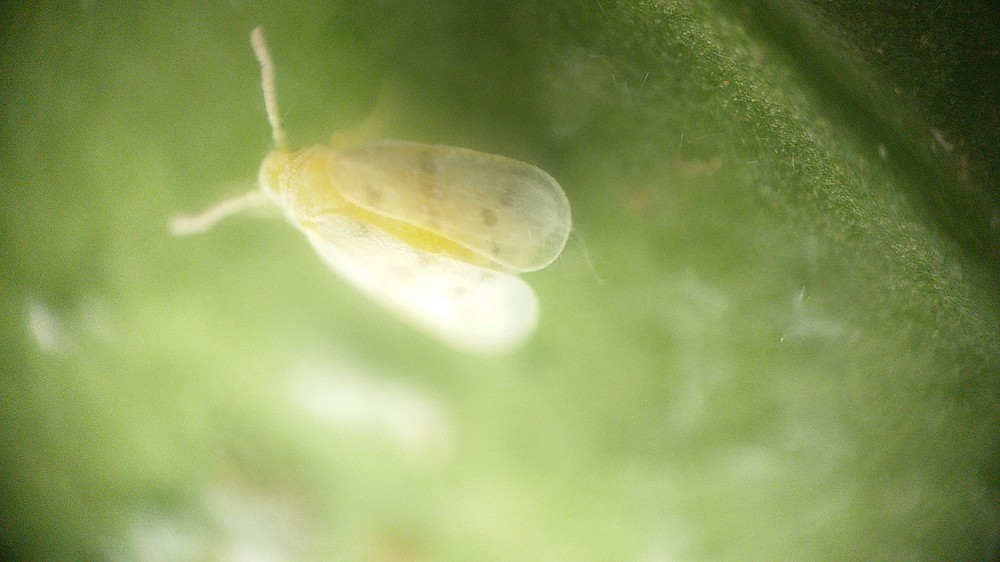Mosca Blanca: (166, 22, 597, 385)
